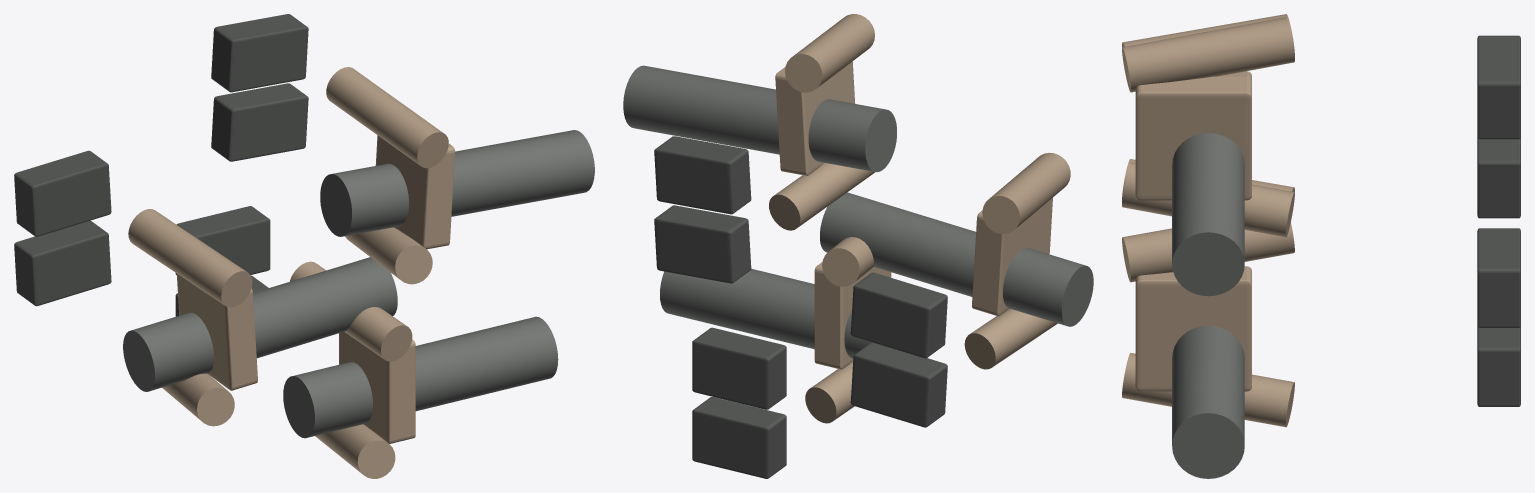
File: d-u04-dominion-anti-tank-team-lod2.glb
3 views of the same model, side by side, from view 1: azimuth 30°, elevation 25°; view 2: azimuth 150°, elevation 25°; view 3: azimuth 270°, elevation 25° (orthographic). The views are drawn at different scales.
Visible parts, largest first — view 1: soldier_1_launcher, soldier_0_launcher, soldier_2_launcher, soldier_2_boot_1, soldier_2_boot_-1, soldier_0_boot_1, soldier_0_boot_-1, soldier_2_arm_1, soldier_0_arm_1, soldier_2_chest, soldier_1_chest, soldier_0_chest (+5 smaller); view 2: soldier_0_launcher, soldier_2_launcher, soldier_1_launcher, soldier_2_boot_1, soldier_1_boot_1, soldier_1_boot_-1, soldier_2_boot_-1, soldier_0_boot_-1, soldier_0_boot_1, soldier_2_chest, soldier_0_chest, soldier_2_arm_1 (+6 smaller); view 3: soldier_0_launcher, soldier_1_launcher, soldier_0_chest, soldier_1_chest, soldier_0_arm_1, soldier_0_boot_1, soldier_1_boot_1, soldier_0_boot_-1, soldier_1_boot_-1, soldier_1_arm_1, soldier_0_arm_-1, soldier_1_arm_-1 (+1 smaller).
Boxes of the visible parts, <box> form: soldier_1_launcher: <box>283,316,558,438</box>; soldier_0_launcher: <box>320,130,594,236</box>; soldier_2_launcher: <box>123,257,397,391</box>; soldier_2_boot_1: <box>14,150,111,236</box>; soldier_2_boot_-1: <box>14,220,111,306</box>; soldier_0_boot_1: <box>211,14,308,92</box>; soldier_0_boot_-1: <box>211,83,308,161</box>; soldier_2_arm_1: <box>128,209,252,307</box>; soldier_0_arm_1: <box>326,67,448,168</box>; soldier_2_chest: <box>176,273,257,390</box>; soldier_1_chest: <box>339,332,415,443</box>; soldier_0_chest: <box>375,135,454,249</box>; soldier_0_launcher: <box>623,65,896,172</box>; soldier_2_launcher: <box>820,192,1093,326</box>; soldier_1_launcher: <box>660,268,927,358</box>; soldier_2_boot_1: <box>850,272,947,358</box>; soldier_1_boot_1: <box>692,327,786,409</box>; soldier_1_boot_-1: <box>692,397,786,478</box>; soldier_2_boot_-1: <box>850,342,947,427</box>; soldier_0_boot_-1: <box>654,205,751,283</box>; soldier_0_boot_1: <box>654,136,751,214</box>; soldier_2_chest: <box>972,198,1052,316</box>; soldier_0_chest: <box>775,61,855,175</box>; soldier_2_arm_1: <box>982,152,1070,234</box>; soldier_0_launcher: <box>1172,133,1244,296</box>; soldier_1_launcher: <box>1172,325,1244,478</box>; soldier_0_chest: <box>1135,76,1251,200</box>; soldier_1_chest: <box>1135,266,1251,391</box>; soldier_0_arm_1: <box>1122,17,1294,92</box>; soldier_0_boot_1: <box>1477,36,1520,139</box>; soldier_1_boot_1: <box>1477,228,1520,327</box>; soldier_0_boot_-1: <box>1477,137,1520,218</box>; soldier_1_boot_-1: <box>1477,325,1520,406</box>; soldier_1_arm_1: <box>1122,222,1294,282</box>; soldier_0_arm_-1: <box>1122,162,1294,237</box>; soldier_1_arm_-1: <box>1122,353,1294,427</box>.
Size of what is drawn, in the model's own units: 2.41 by 1.89 by 1.65.
